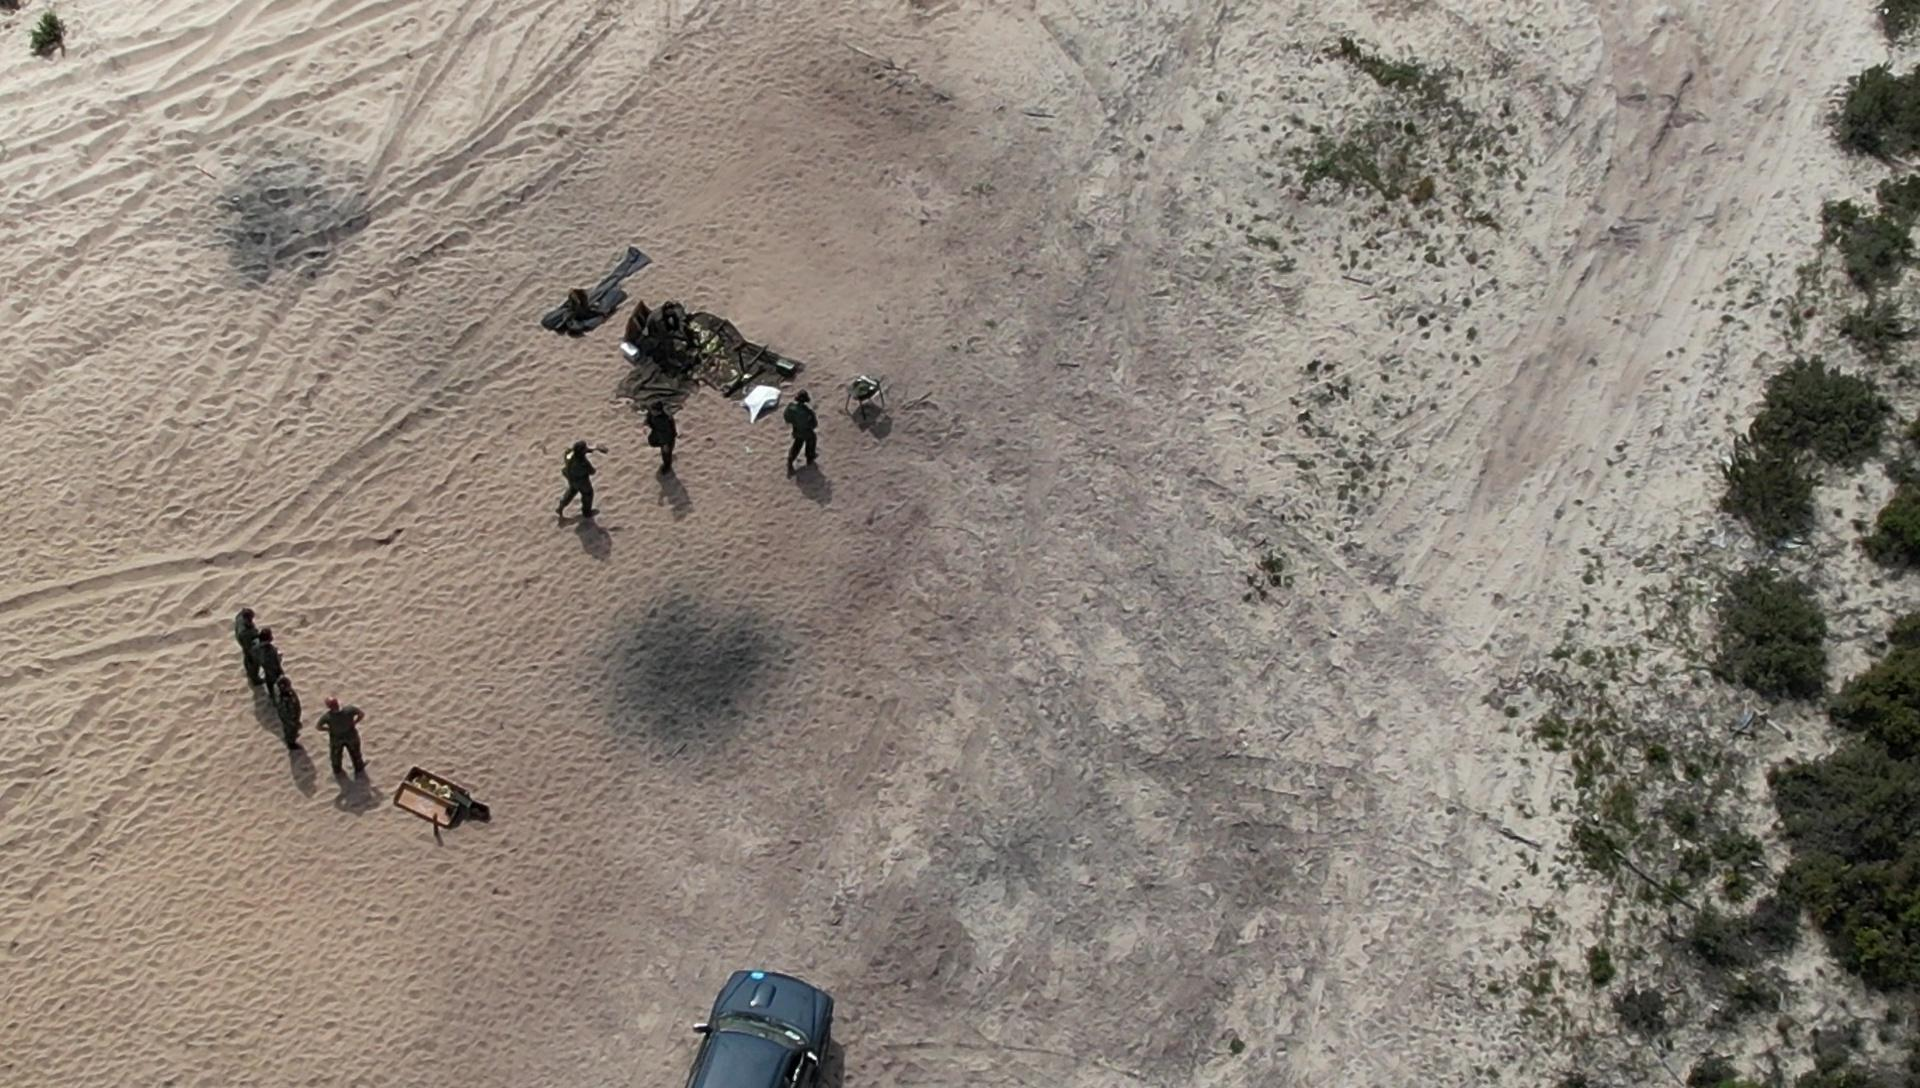Soldier: (314, 688, 382, 795), (767, 378, 828, 481), (553, 431, 607, 535), (268, 666, 313, 758), (637, 400, 684, 483), (644, 293, 688, 367), (231, 596, 270, 665), (247, 626, 291, 679)
